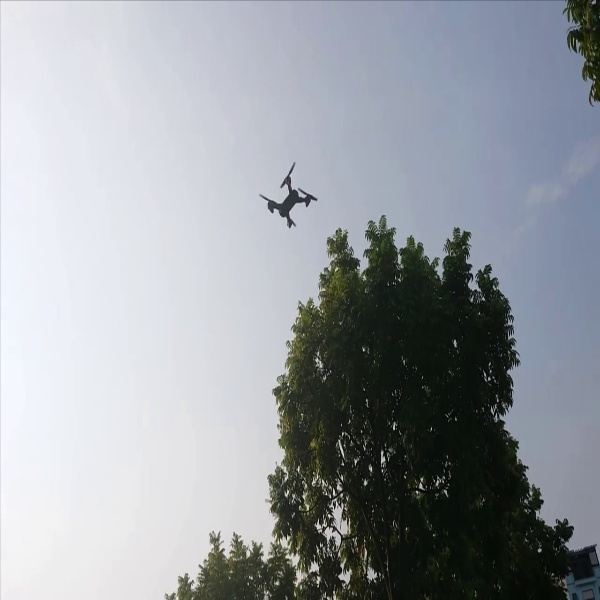drone: (254, 154, 319, 231)
